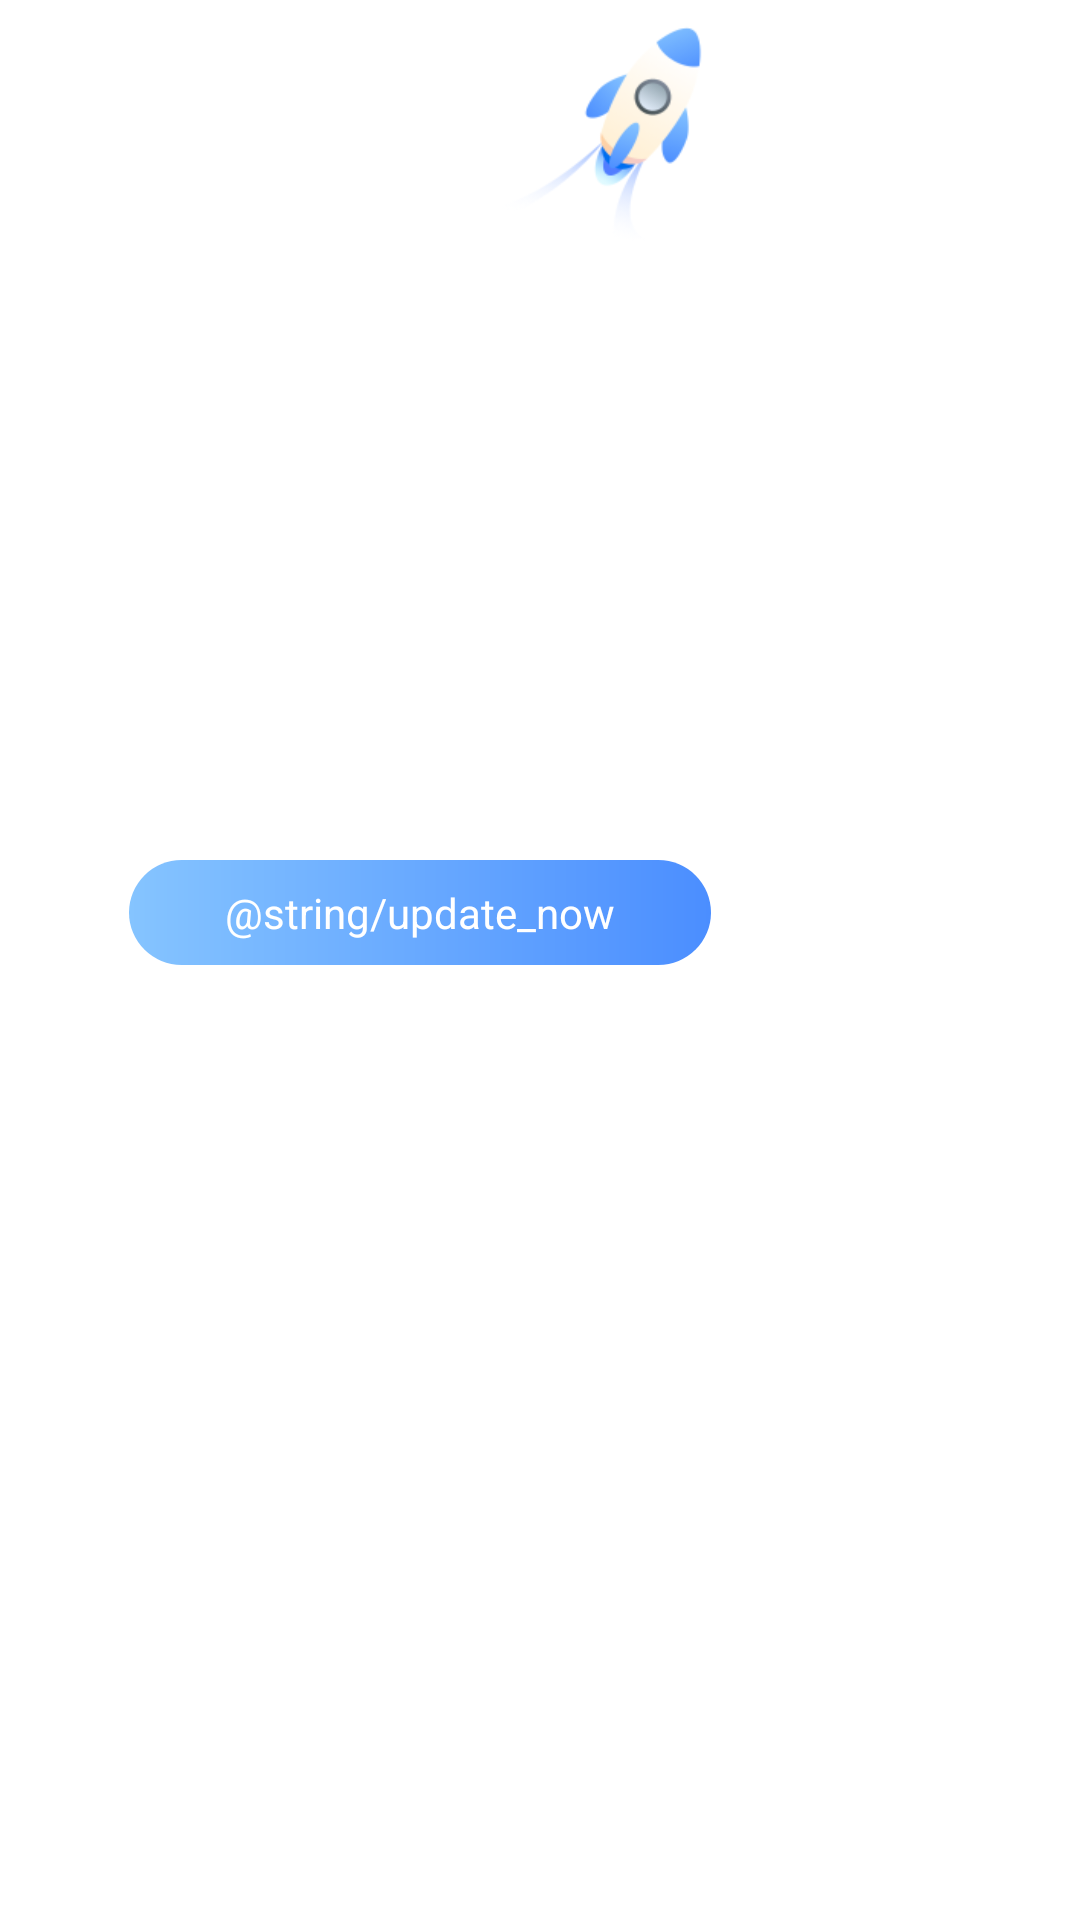

Locate icon controls on the screen. Image size 1080×1920, boxes as [x1, y1, x2, y2].
upgrade pop: [557, 28, 701, 200]
